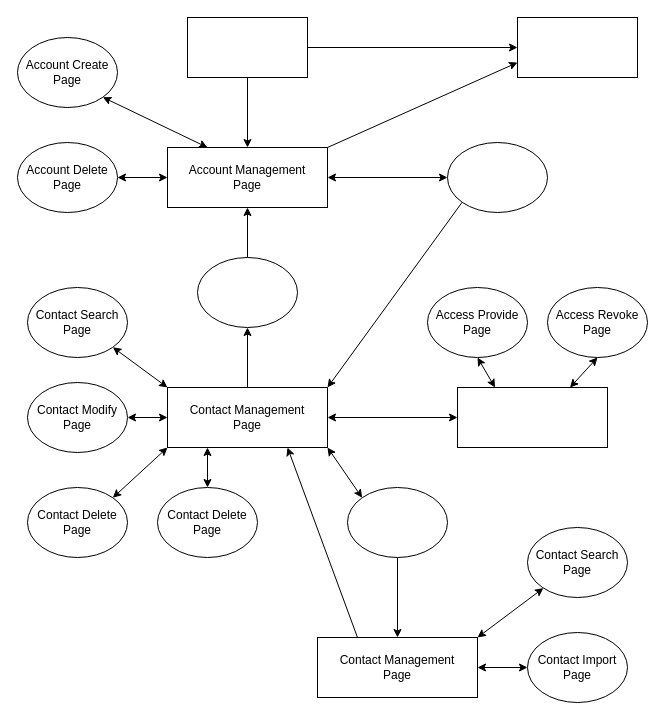
Some shapes in this 665 by 720 pixel diagram are drawn without their labels. The centre of each missing label's shape, as x and y in pixels:
"Commit Changes Page" belongs at point (247, 292).
"Goodbye Page" belongs at point (577, 47).
"Login Page" belongs at point (497, 177).
"Phonebook Access Management Page" belongs at point (532, 417).
"Phonebook Access Page" belongs at point (397, 522).
"Welcome Page" belongs at point (247, 47).
